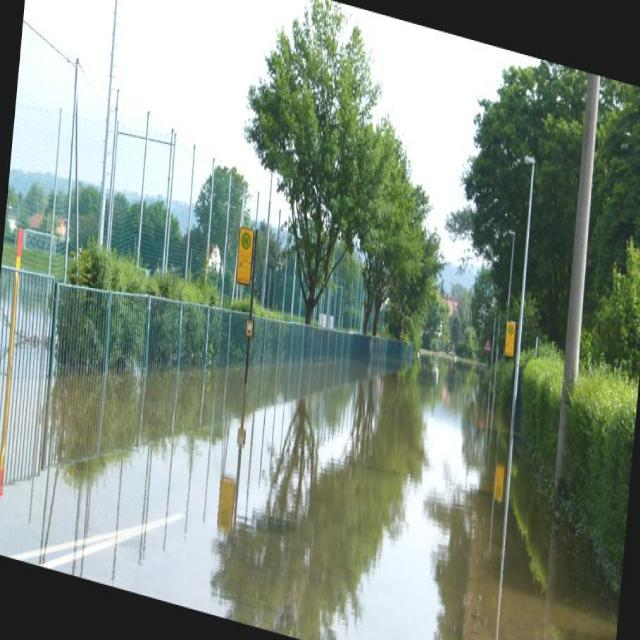flood: (0, 240, 488, 639)
